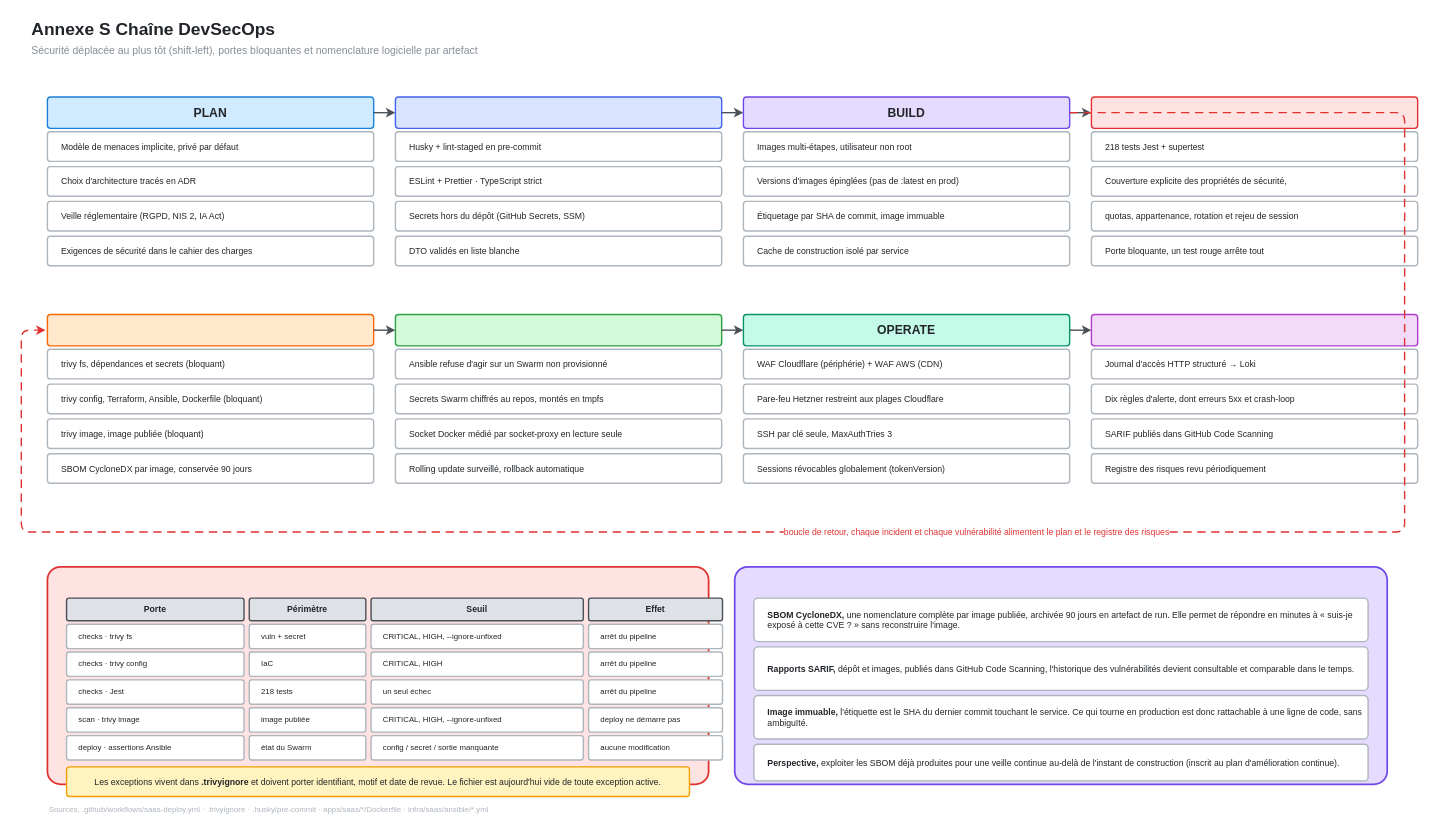
This 1434x832 diagram has some shape labels left out. The shapes that lost their labels are listed below. From the top down, each one's box as (x1, y1, x2, y2) in pixels, then its label:
(394, 96, 722, 129): CODE
(1090, 96, 1418, 129): TEST
(46, 313, 374, 346): RELEASE
(394, 313, 722, 346): DEPLOY
(1090, 313, 1418, 346): MONITOR
(46, 566, 709, 785): PORTES BLOQUANTES ce qui arrête réellement la chaîne
(733, 566, 1388, 785): TRAÇABILITÉ DE LA CHAÎNE D'APPROVISIONNEMENT
